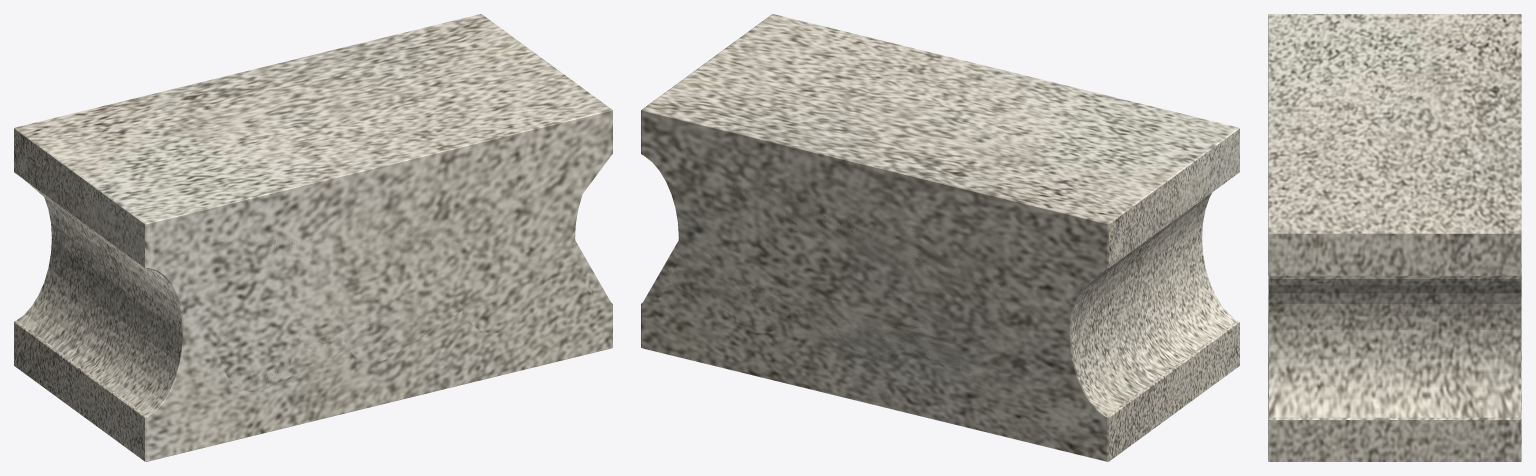
File: brick.obj
3 views of the same model, side by side, from view 1: azimuth 30°, elevation 25°; view 2: azimuth 150°, elevation 25°; view 3: azimuth 270°, elevation 25° (orthographic). The views are drawn at different scales.
Visible parts, largest first — view 1: Cube; view 2: Cube; view 3: Cube.
Boxes of the visible parts, box(x1,y1,x2,y2) form: Cube: box(14, 14, 612, 461); Cube: box(641, 14, 1239, 461); Cube: box(1268, 14, 1521, 461).
Size of the model in its own units: 0.078 by 0.038 by 0.038.
1 material, 1 textured.
